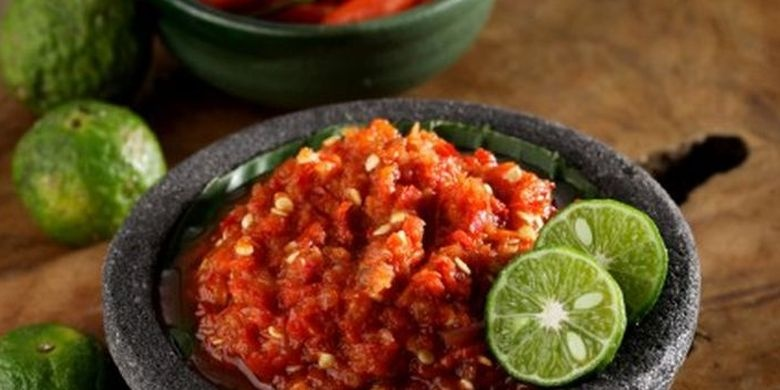sambal: (191, 122, 553, 388)
